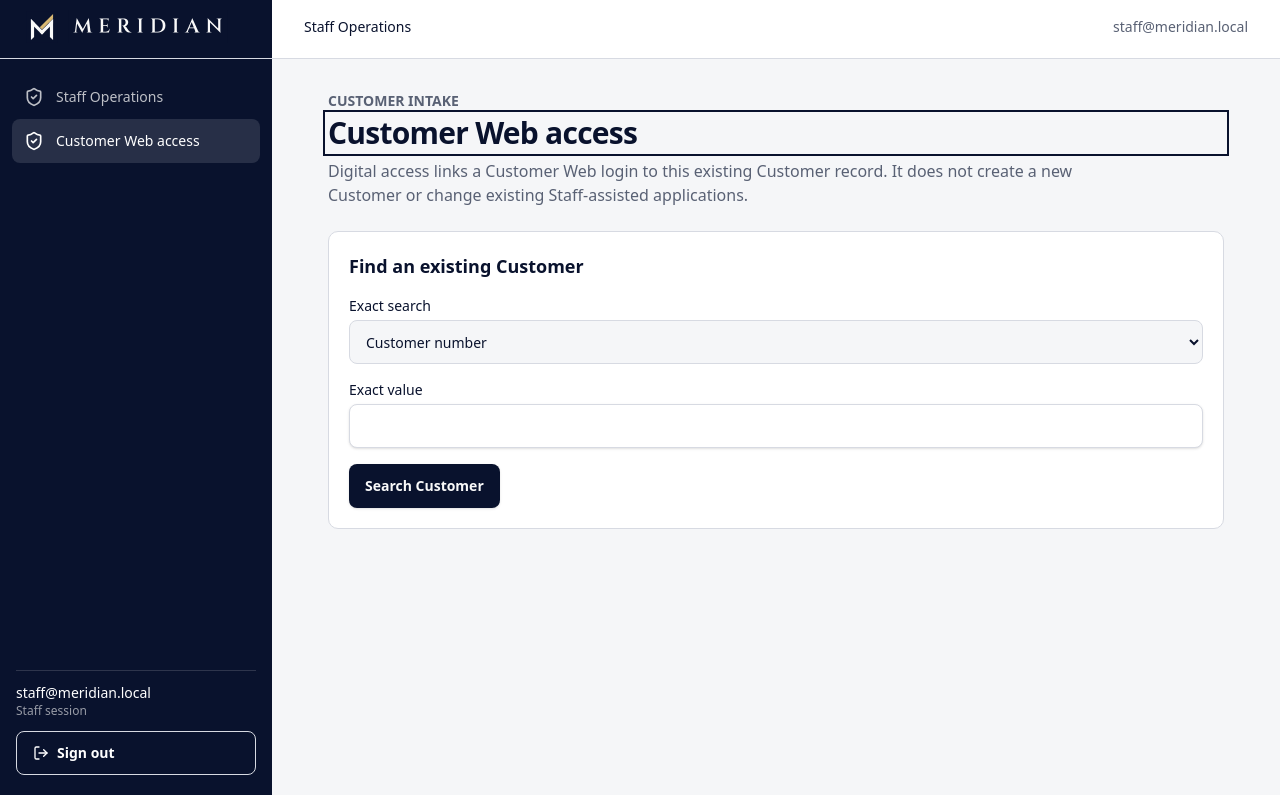
Test: Customer Web access Staff workflow › reconciles an unknown activation result with GET and never resends POST
Expected: the heading "Customer Web access" is shown, [328,112,637,153]
Type "CUS-000000123" into the field labelled "Exact value" at [776, 426], box [349,404,1203,448]
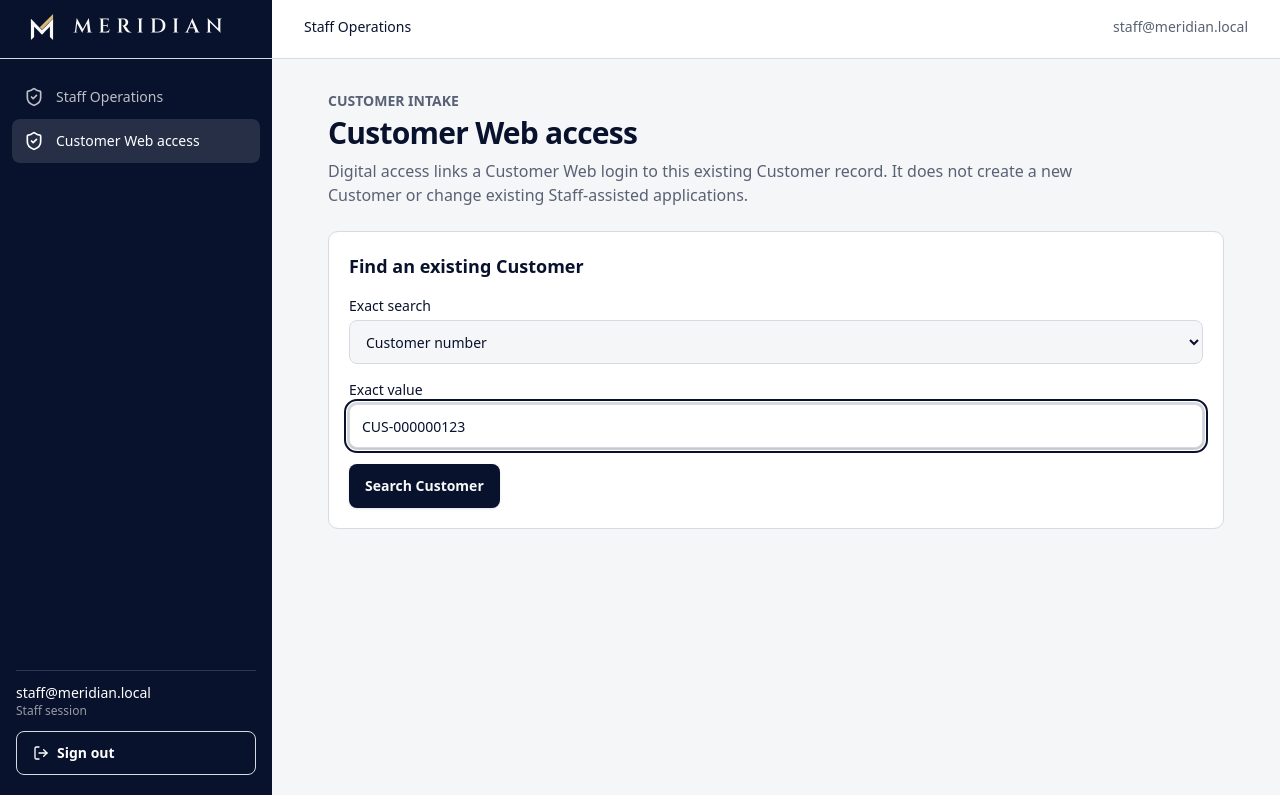
Click the button "Search Customer" at [424, 486], box [349,464,500,508]
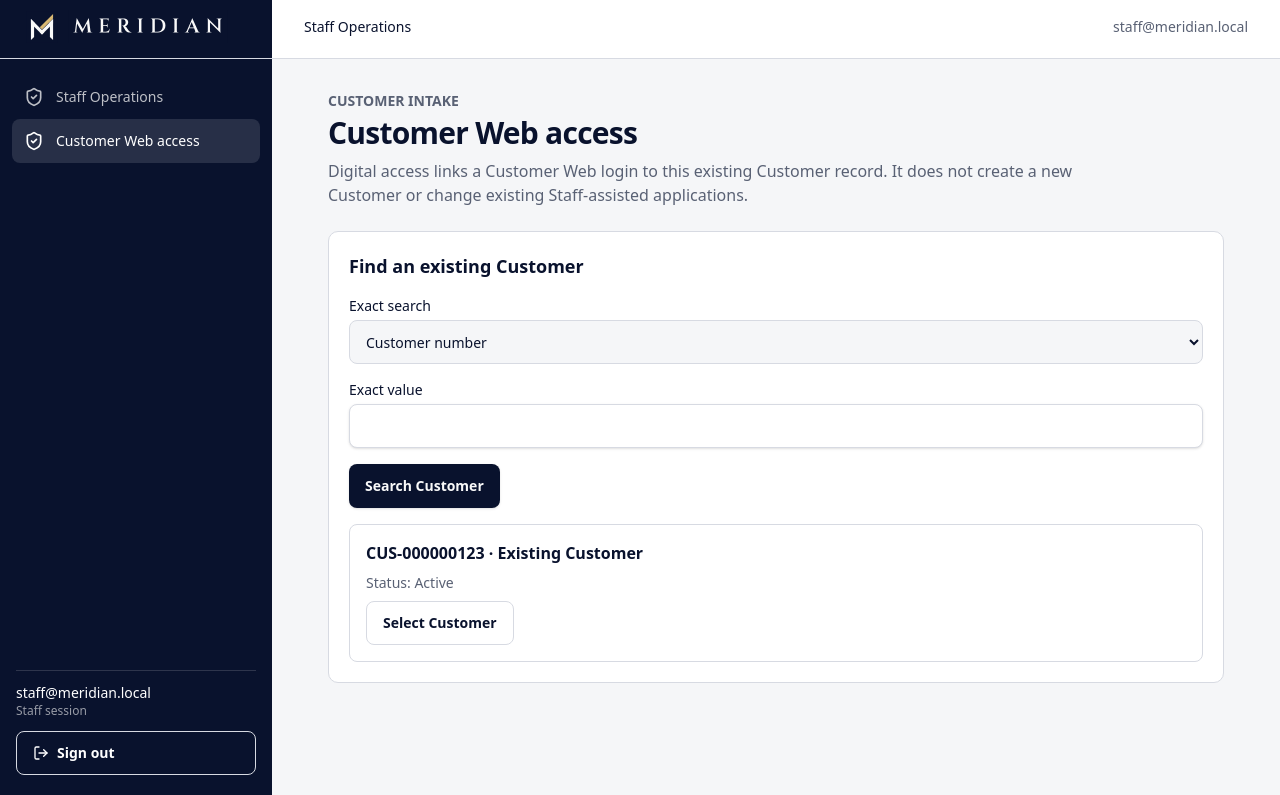
Click the button "Select Customer" at [440, 623], box [366,601,514,645]
(page scrolled)
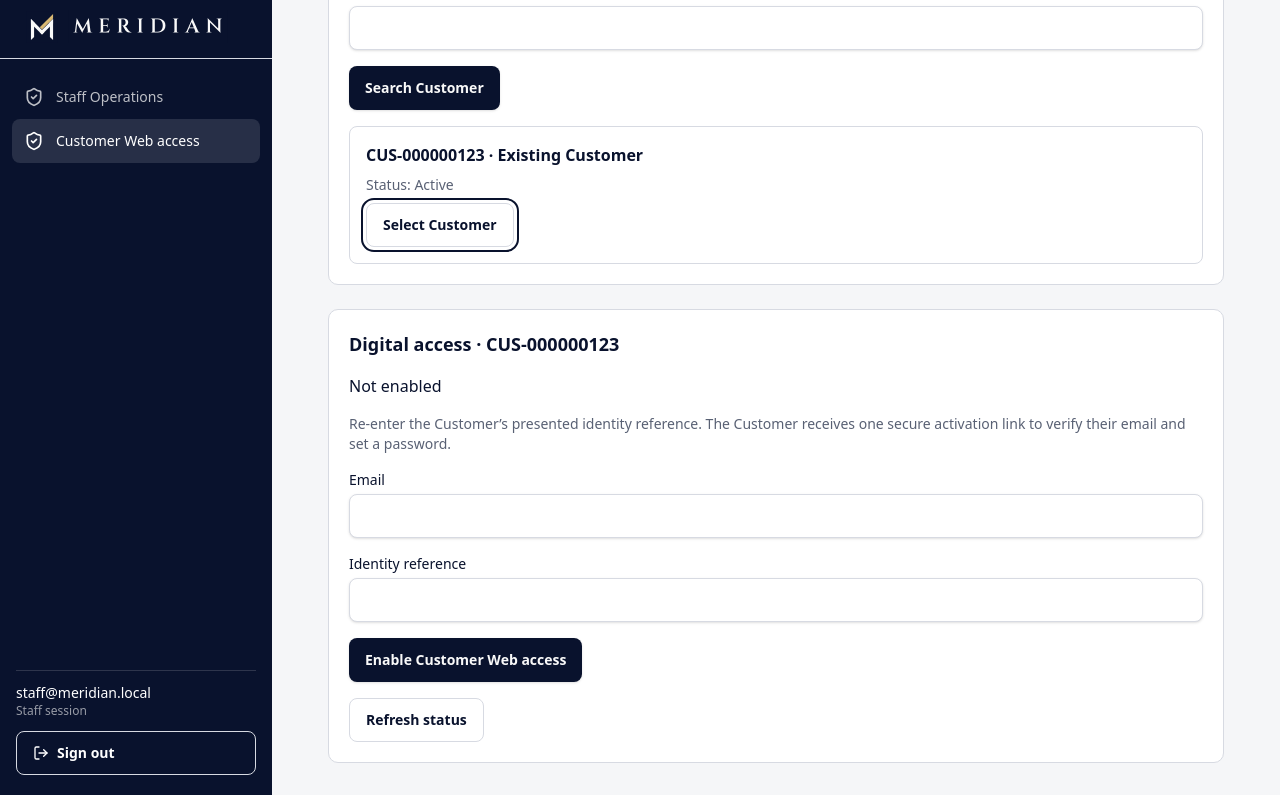
Expected: the text "Not enabled" is shown, [349,375,442,397]
Type "customer@example.com" into the field labelled "Email" at [776, 516], box [349,494,1203,538]
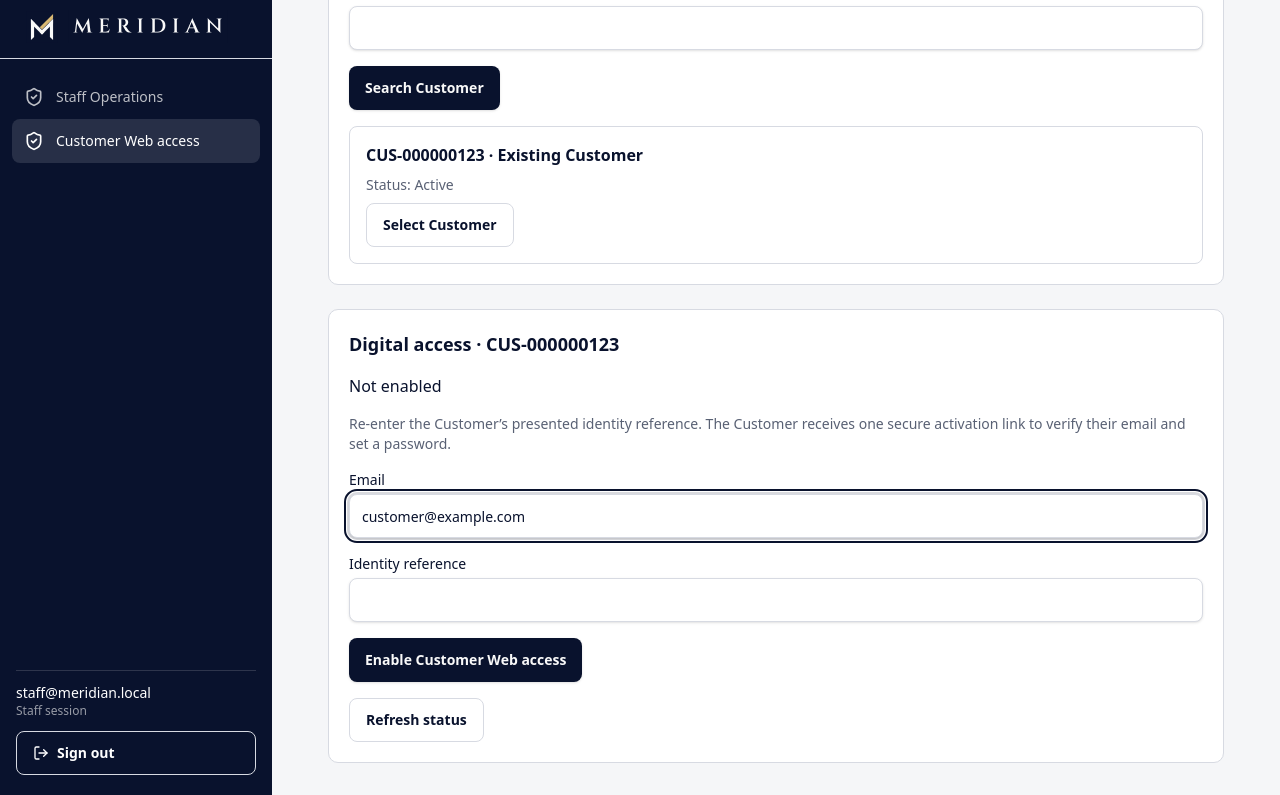
Type "ID-EXACT" into the field labelled "Identity reference" at [776, 600], box [349,578,1203,622]
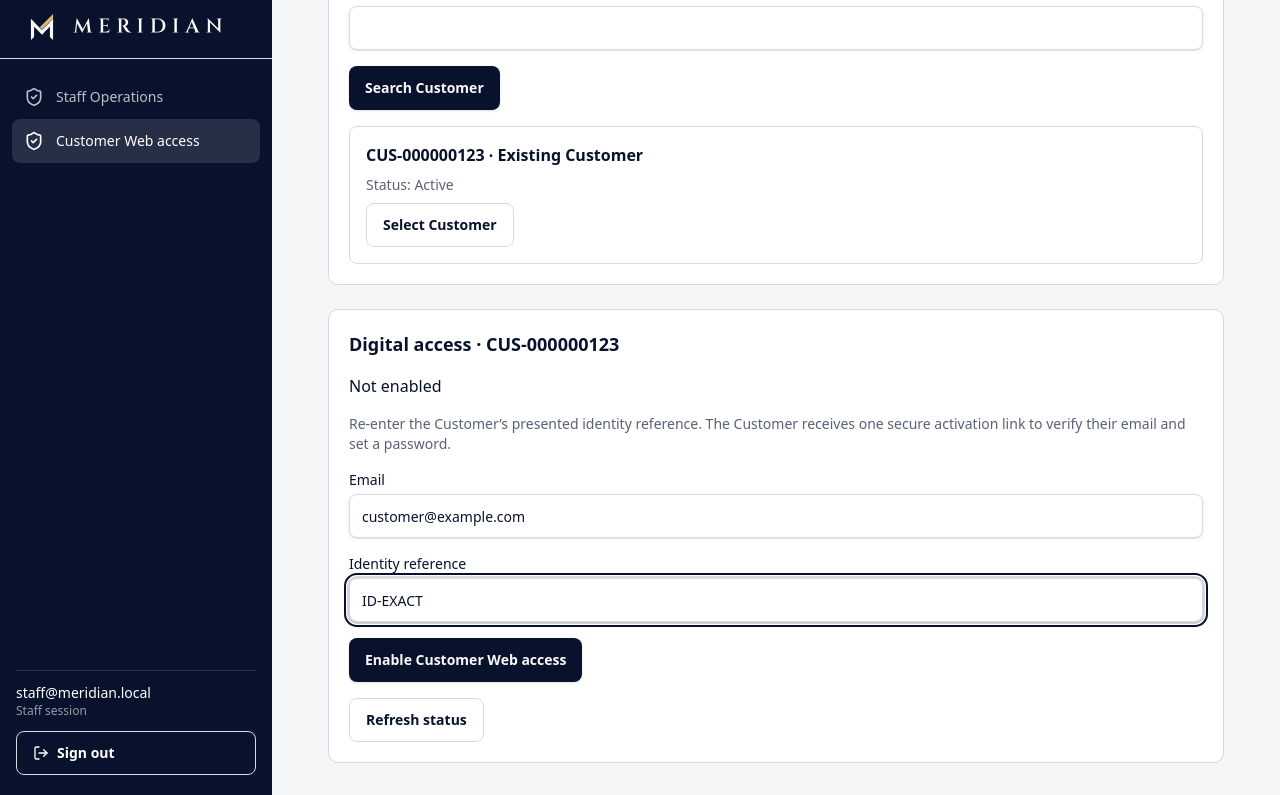
Click the button "Enable Customer Web access" at [466, 660], box [349,638,582,682]
(page scrolled)
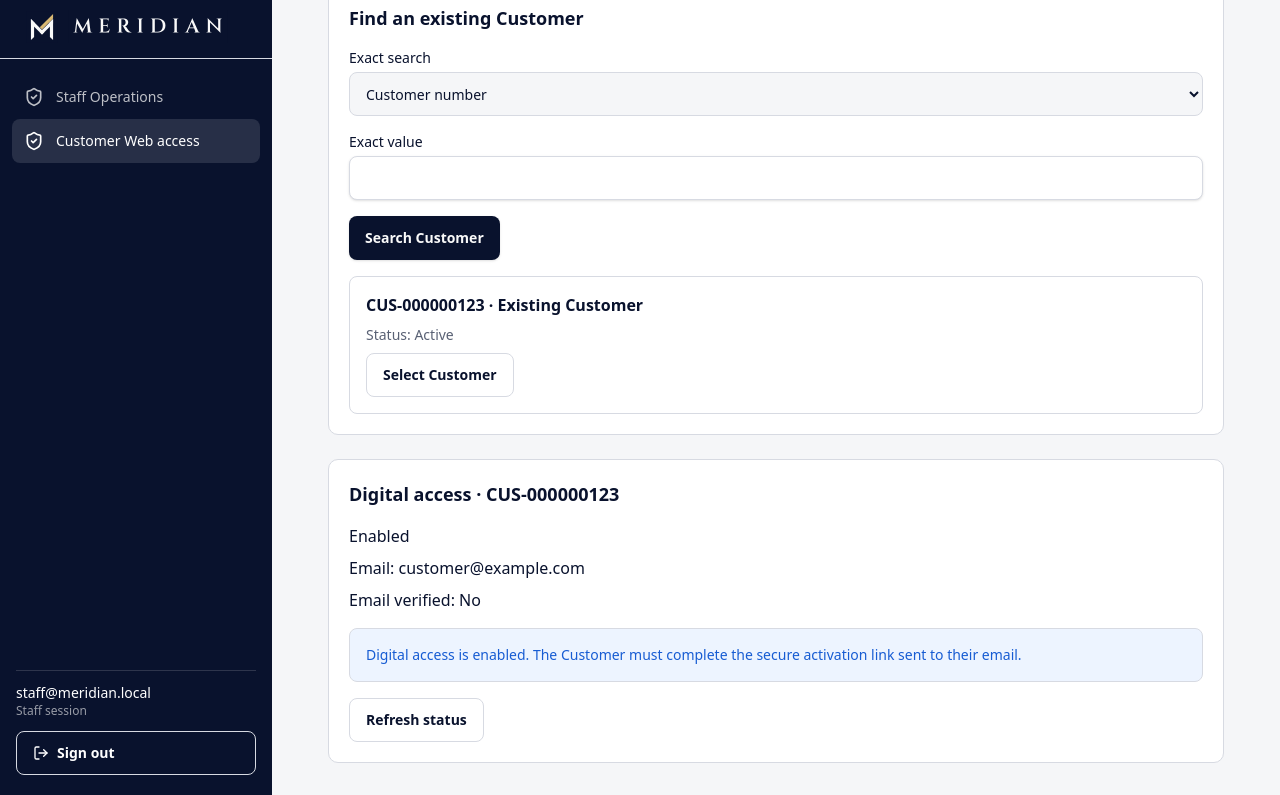
Expected: the text "Enabled" is shown, [349,525,410,547]
Expected: the text "complete the secure activation link sent to their email" is shown, [366,645,1022,664]
